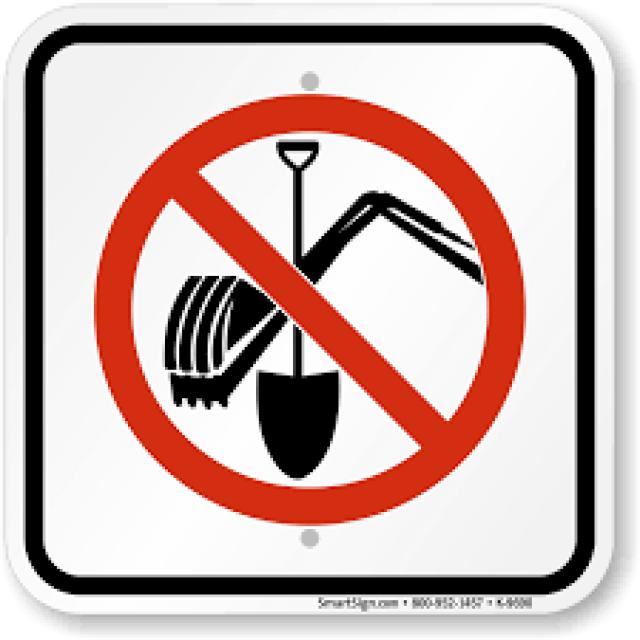no-digging: (78, 96, 534, 508)
